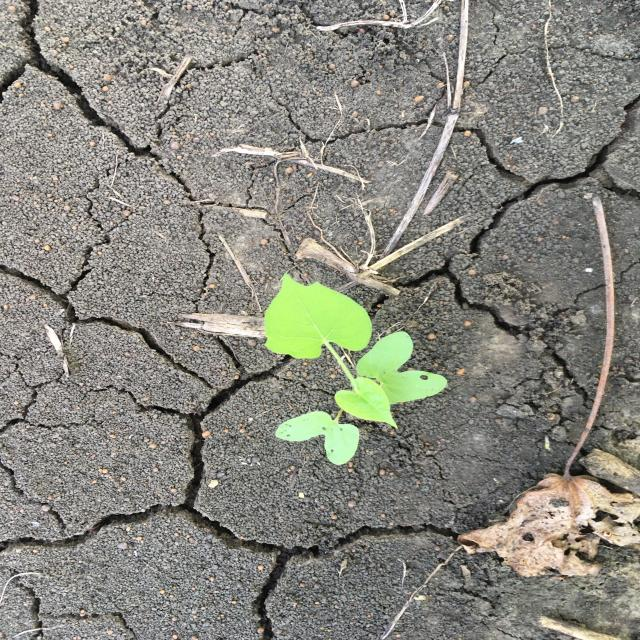MorningGlory: (263, 272, 450, 466)
